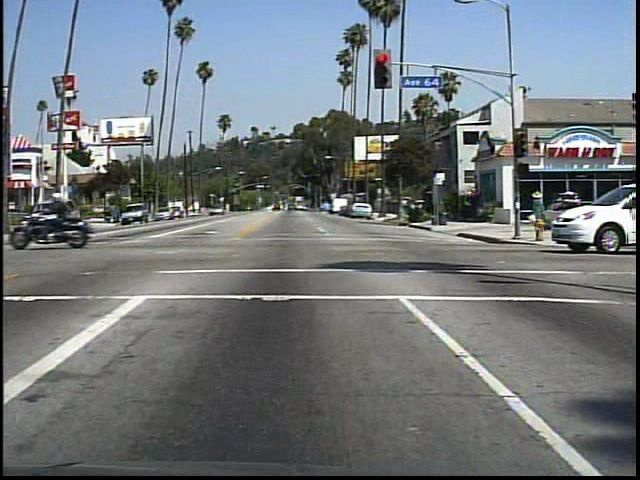person: (50, 189, 87, 240), (525, 186, 550, 220)
